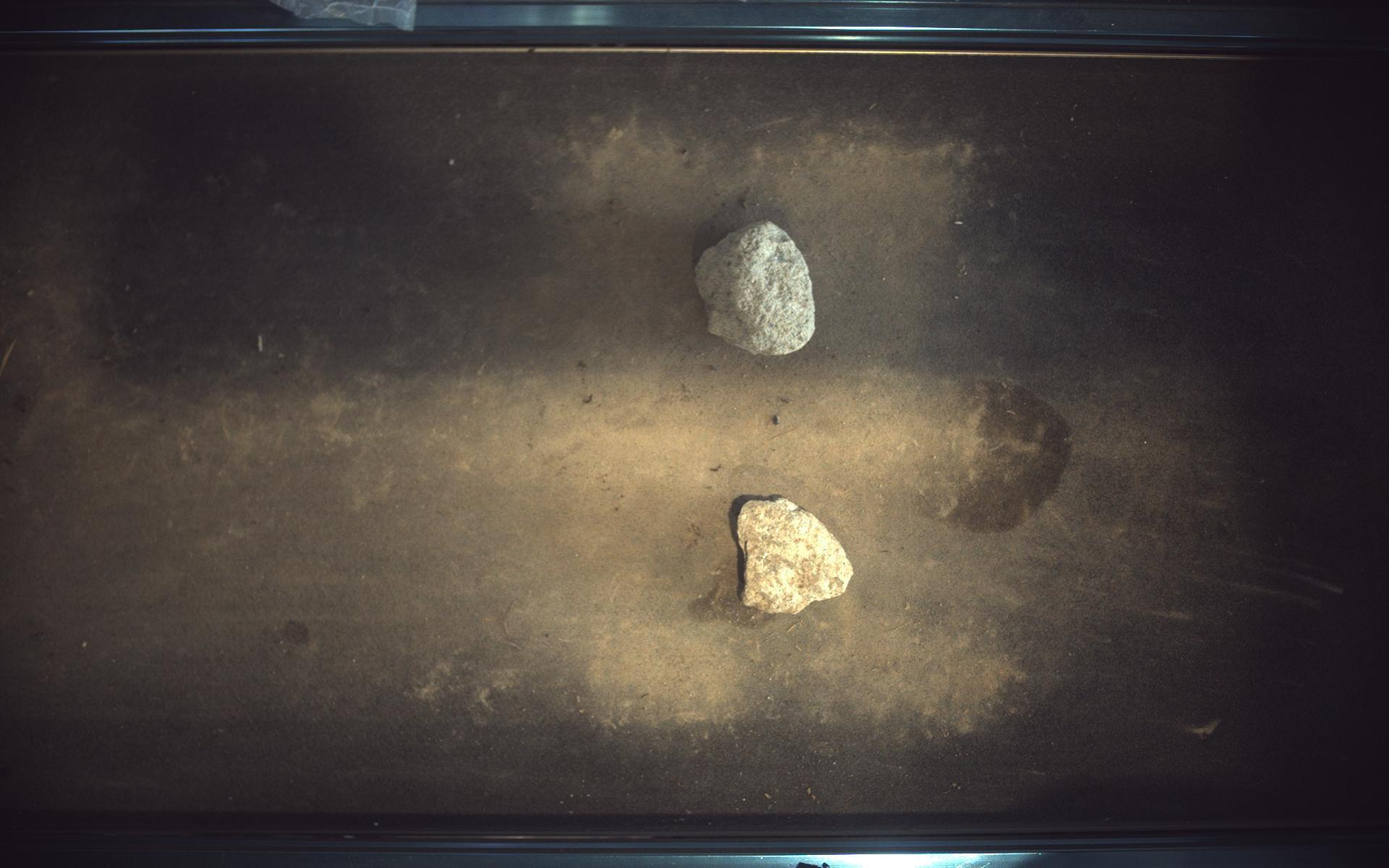stone: (697, 220, 817, 355), (738, 498, 854, 615)
